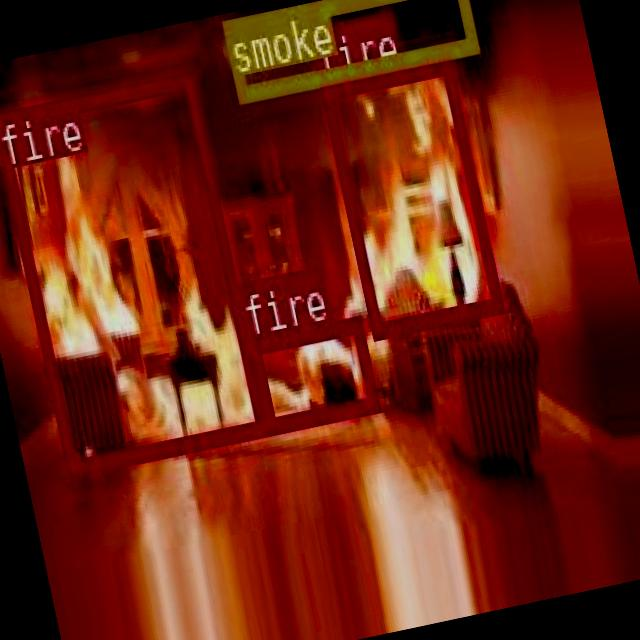fire: (0, 69, 264, 473), (318, 55, 502, 338), (246, 314, 377, 431)
smoke: (218, 0, 475, 100)
